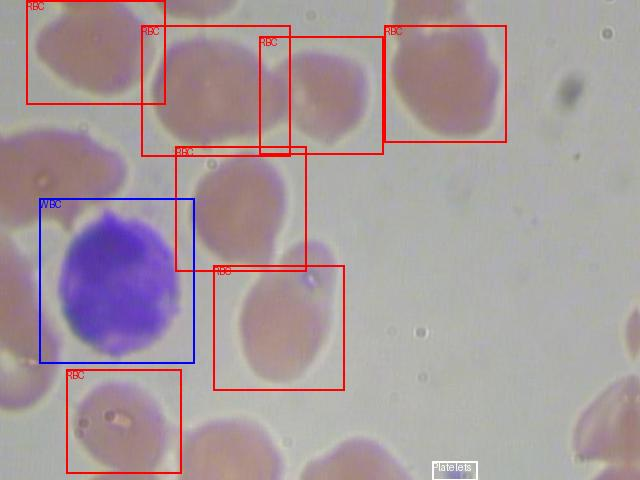Platelets: (432, 461, 477, 480)
RBC: (141, 25, 290, 156), (175, 146, 306, 271), (213, 265, 344, 390), (259, 36, 383, 154), (26, 0, 165, 104), (384, 25, 506, 142), (66, 369, 181, 473)
WBC: (39, 198, 194, 363)
